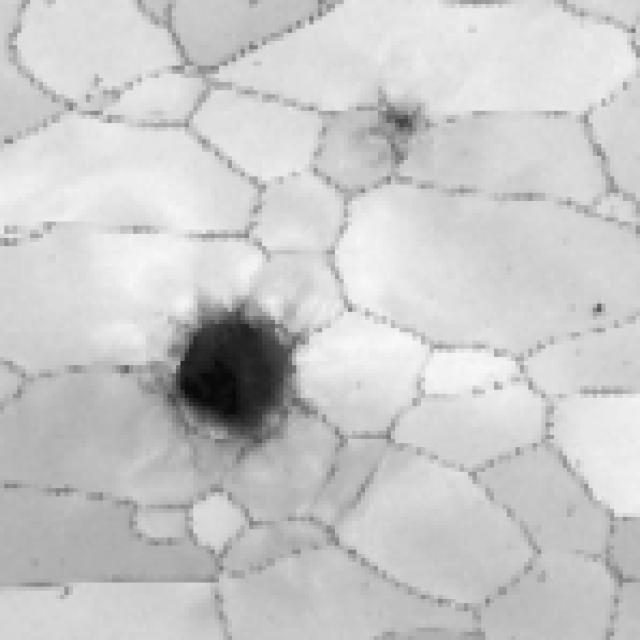good_void: (131, 292, 325, 484), (347, 80, 442, 188), (589, 297, 607, 319)
